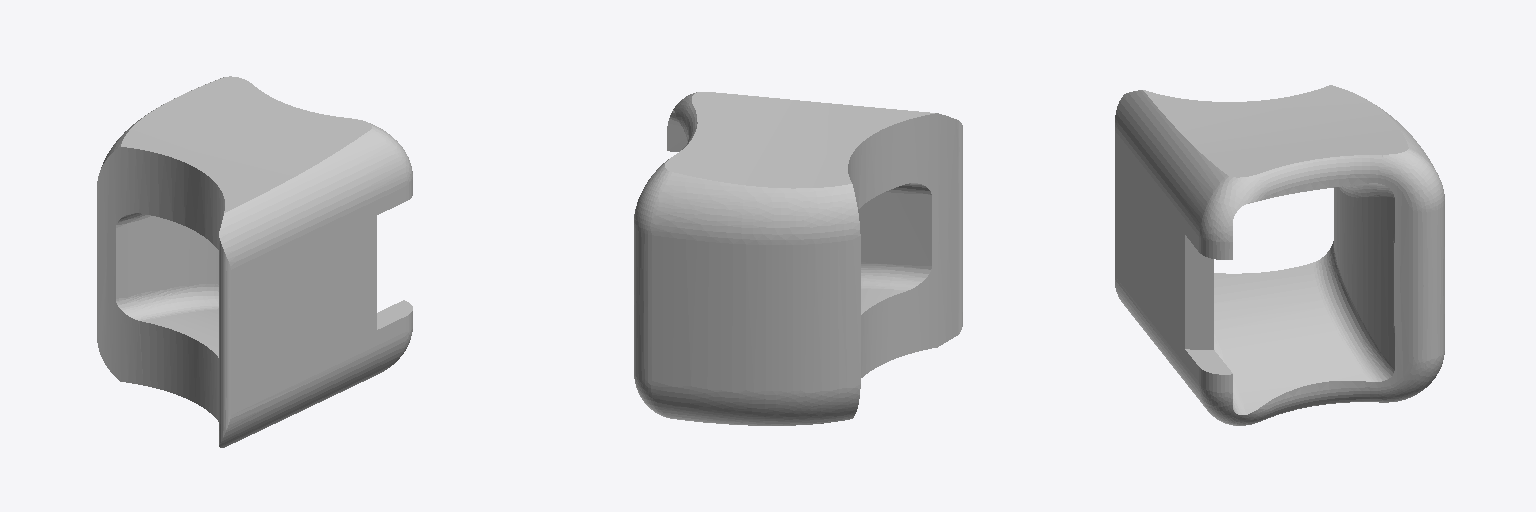
The model's file is right_visual_thumb_ip_skin_mesh_mesh.obj.
3 views of the same model, side by side, from view 1: azimuth 30°, elevation 25°; view 2: azimuth 150°, elevation 25°; view 3: azimuth 270°, elevation 25° (orthographic).
Bounding box in the file's own units: 0.0214 × 0.0202 × 0.0243.